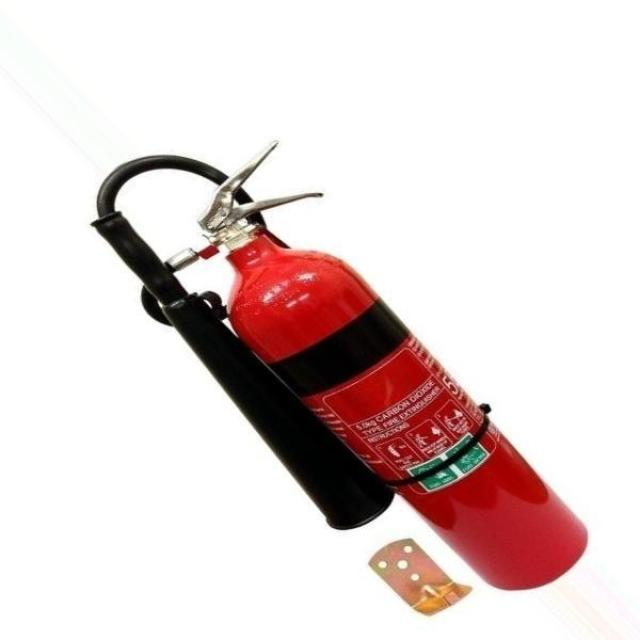fire_extinguisher: (74, 124, 596, 598)
